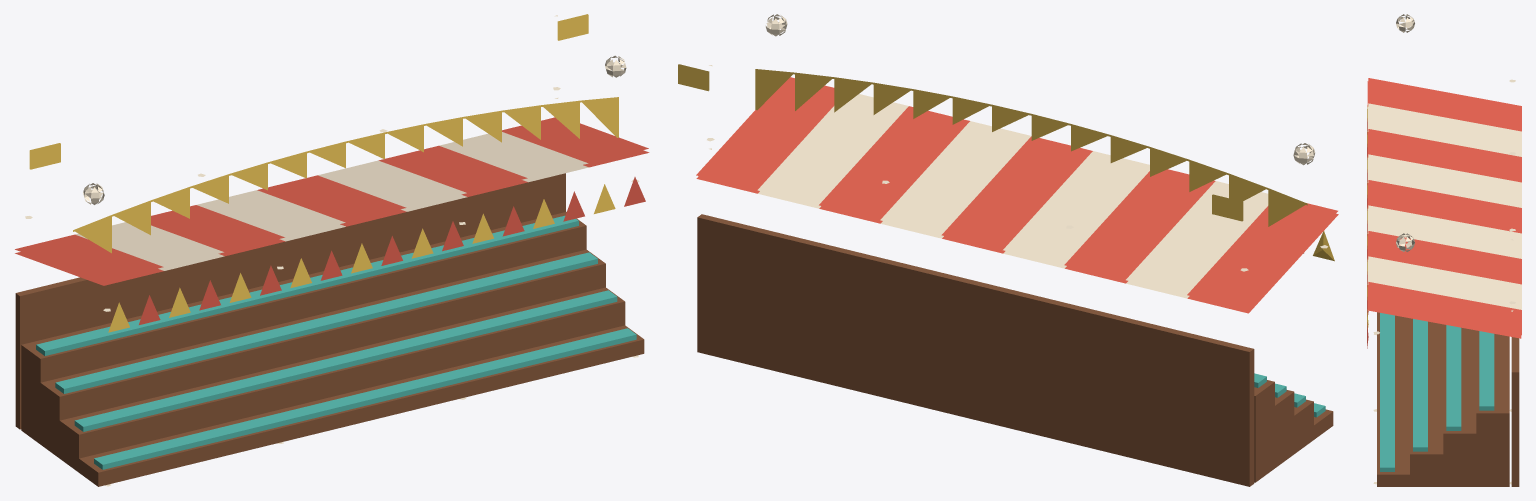
Rendered from grandstand.glb.
3 views of the same model, side by side, from view 1: azimuth 30°, elevation 25°; view 2: azimuth 150°, elevation 25°; view 3: azimuth 270°, elevation 25° (orthographic). The views are drawn at different scales.
Visible parts, largest first — view 1: Grandstand, StandBunting; view 2: Grandstand, StandBunting; view 3: Grandstand, StandFinialL, StandFinialR.
Boxes of the visible parts, box(x1,y1,x2,y2) form: Grandstand: box(15, 14, 649, 486); StandBunting: box(73, 97, 618, 253); Grandstand: box(678, 64, 1338, 486); StandBunting: box(755, 69, 1307, 226); Grandstand: box(1367, 78, 1521, 486); StandFinialL: box(1396, 14, 1414, 32); StandFinialR: box(1396, 233, 1414, 251).
Bounding box in the file's own units: 18.75 × 9.04 × 5.14.
